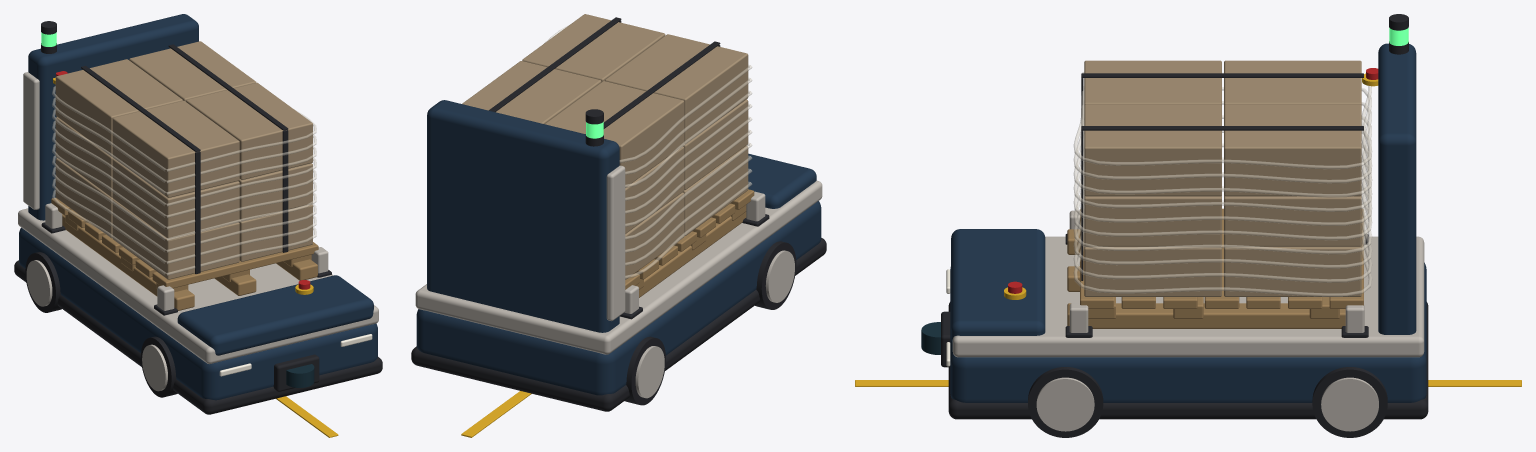
Rendered from robots-17.glb.
3 renders of one model, left to right at view 1: azimuth 30°, elevation 25°; view 2: azimuth 150°, elevation 25°; view 3: azimuth 270°, elevation 25°, orthographic. The views are drawn at different scales.
Parts seen in each view (by area): view 1: cartons, deck, chassis, wrap, column, pallet, wheels, straps, retainers, sensor, lane, beacon (+1 smaller); view 2: column, cartons, chassis, deck, wrap, wheels, pallet, straps, retainers, lane, beacon; view 3: cartons, deck, chassis, wrap, column, pallet, wheels, straps, retainers, lane, sensor, beacon.
Part boxes in pixels (x1,y1,x2,y2): cartons: (55,41,312,279); deck: (18,208,378,363); chassis: (14,227,382,414); wrap: (52,86,316,275); column: (23,14,198,220); pallet: (51,197,318,310); wheels: (25,252,177,397); straps: (81,44,288,273); retainers: (41,203,331,315); sensor: (273,354,319,391); lane: (276,396,338,437); beacon: (41,21,56,53); column: (427,100,625,332); cartons: (462,14,748,279); chassis: (411,201,826,411); deck: (415,153,822,354); wrap: (545,25,752,278); wheels: (625,241,796,405); pallet: (625,189,754,297); straps: (489,17,720,128); retainers: (620,191,769,319); lane: (461,391,531,437); beacon: (585,109,603,146); cartons: (1084,60,1361,296); deck: (951,229,1424,357); chassis: (948,262,1428,419); wrap: (1073,72,1372,296); column: (1378,43,1416,334); pallet: (1067,208,1363,328); wheels: (1028,367,1387,437); straps: (1081,73,1363,280); retainers: (1065,210,1368,337); lane: (855,380,1521,386); sensor: (921,311,950,367); beacon: (1389,14,1408,54).
Bounding box in the file's own units: 1.6 × 2.15 × 3.96.
